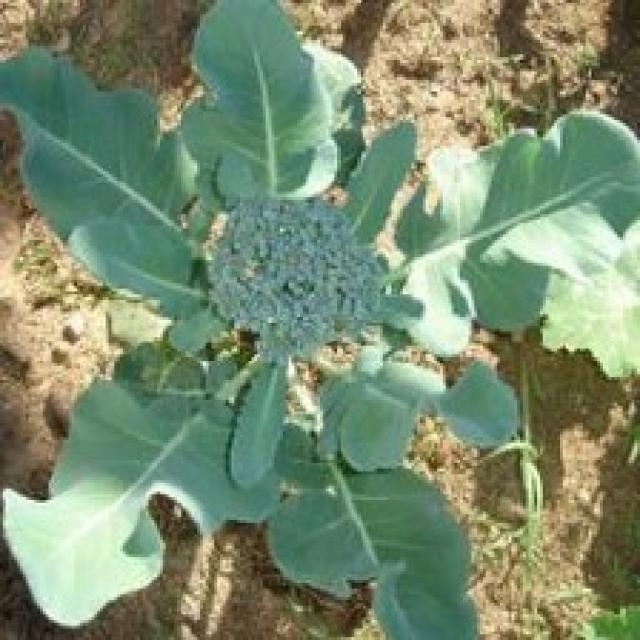Broccoli: (209, 199, 382, 361), (210, 199, 382, 361)
